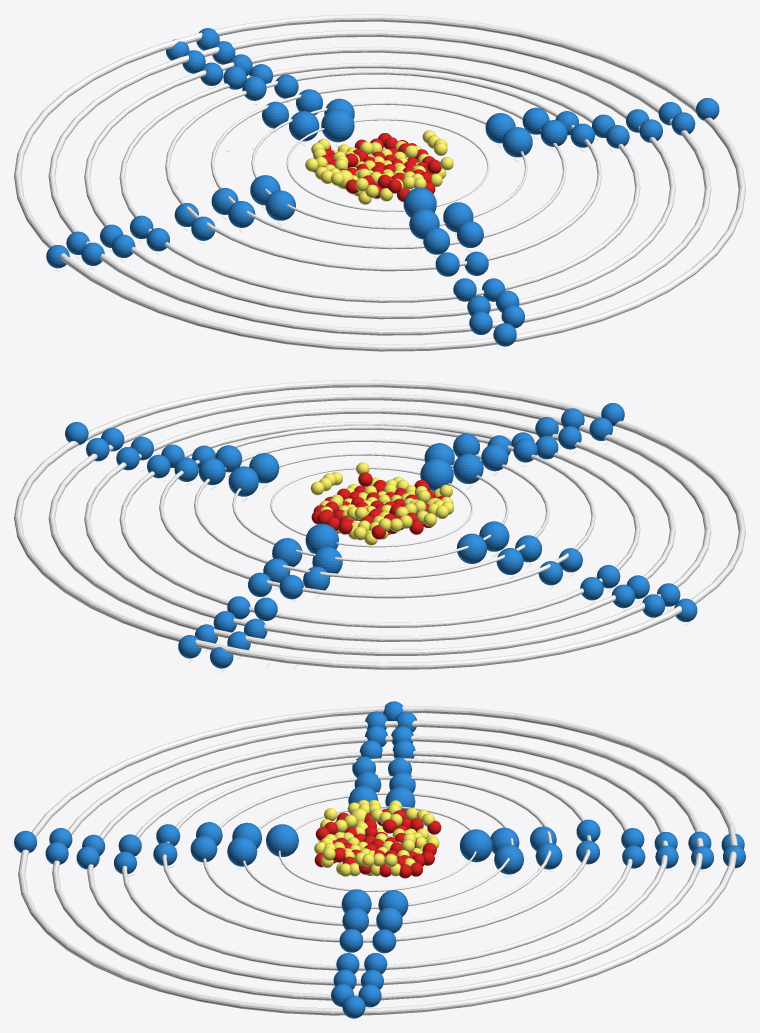
The picture shows the model from 3 angles, top to bottom: view 1: azimuth 30°, elevation 25°; view 2: azimuth 150°, elevation 25°; view 3: azimuth 270°, elevation 25°; orthographic projection.
Parts seen in each view (by area): view 1: Torus.008, Torus.007, Torus.006, Torus.005, Torus.004, Torus.003, Torus.002, Torus.001, g, g.005, g.003, g.001 (+9 smaller); view 2: Torus.008, Torus.007, Torus.006, Torus.005, Torus.004, Torus.003, Torus.002, Torus.001, g.001, g, g.006, g.004 (+12 smaller); view 3: Torus.008, Torus.007, Torus.006, Torus.005, Torus.004, Torus.003, Torus.002, g.001, g, Torus.001, g.007, g.009 (+5 smaller).
Boxes of the visible parts, bbox=[...] form: Torus.008: bbox=[14, 14, 745, 351]; Torus.007: bbox=[48, 30, 711, 335]; Torus.006: bbox=[84, 46, 675, 319]; Torus.005: bbox=[119, 63, 640, 302]; Torus.004: bbox=[165, 70, 601, 271]; Torus.003: bbox=[210, 85, 566, 249]; Torus.002: bbox=[251, 102, 527, 229]; Torus.001: bbox=[286, 118, 489, 211]; g: bbox=[321, 109, 354, 142]; g.005: bbox=[502, 127, 532, 157]; g.003: bbox=[265, 190, 295, 220]; g.001: bbox=[403, 187, 436, 217]; Torus.008: bbox=[14, 380, 745, 669]; Torus.007: bbox=[48, 393, 711, 655]; Torus.006: bbox=[84, 408, 675, 641]; Torus.005: bbox=[119, 422, 640, 627]; Torus.004: bbox=[159, 425, 595, 598]; Torus.003: bbox=[194, 438, 549, 579]; Torus.002: bbox=[232, 453, 508, 562]; Torus.001: bbox=[270, 467, 472, 547]; g.001: bbox=[420, 458, 453, 491]; g: bbox=[305, 523, 338, 553]; g.006: bbox=[453, 453, 483, 483]; g.004: bbox=[228, 466, 258, 496]; Torus.008: bbox=[18, 706, 737, 1015]; Torus.007: bbox=[52, 720, 703, 1000]; Torus.006: bbox=[87, 735, 668, 985]; Torus.005: bbox=[122, 751, 632, 970]; Torus.004: bbox=[162, 758, 591, 942]; Torus.003: bbox=[203, 776, 552, 926]; Torus.002: bbox=[243, 792, 513, 908]; g.001: bbox=[266, 824, 298, 856]; g: bbox=[459, 829, 492, 862]; Torus.001: bbox=[278, 806, 476, 891]; g.007: bbox=[227, 836, 257, 866]; g.009: bbox=[494, 844, 523, 874].
Size of the model in its own units: 22.22 by 2.85 by 22.03.
